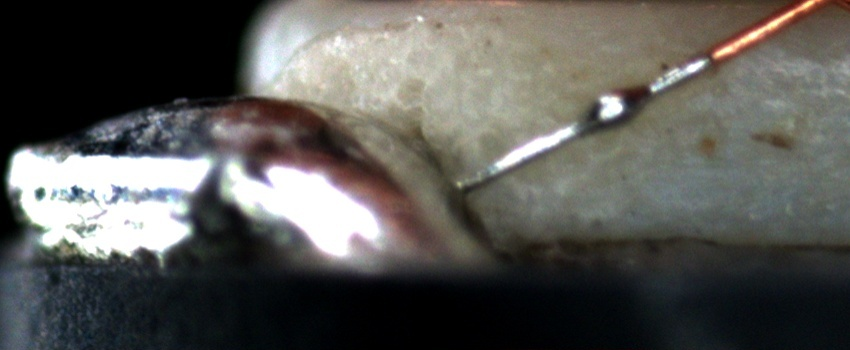DL: (629, 41, 850, 78)
TB: (575, 77, 643, 134)
TS: (453, 53, 713, 192)
TTCW: (451, 16, 769, 193)
